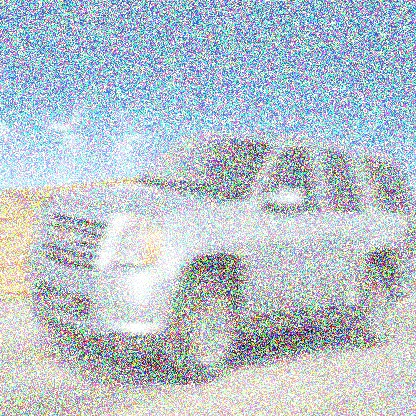Vehicle: (24, 122, 415, 386)
